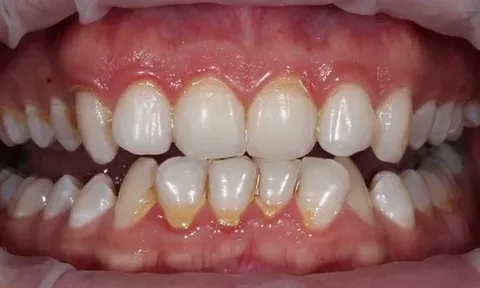LL1BC_healthy: (373, 169, 416, 233)
LL2BC_healthy: (404, 170, 437, 217)
LLCI_healthy: (253, 158, 300, 220)
LLC_healthy: (349, 168, 373, 223)
LLLI_healthy: (296, 156, 352, 230)
LR1BC_healthy: (67, 162, 115, 231)
LR1M_healthy: (9, 168, 53, 221)
LR2BC_healthy: (43, 169, 81, 223)
LRCI_healthy: (209, 158, 255, 228)
LRC_decay: (112, 156, 157, 231)
LRLI_healthy: (156, 156, 208, 231)
UL1BC_healthy: (410, 95, 435, 148)
ULCI_healthy: (243, 71, 316, 157)
ULC_healthy: (371, 78, 412, 163)
ULLI_healthy: (315, 74, 372, 155)
UR1BC_decay: (47, 96, 79, 152)
UR2BC_decay: (25, 101, 53, 150)
URCI_healthy: (174, 76, 245, 159)
URC_healthy: (73, 85, 116, 166)
URLI_healthy: (112, 76, 174, 156)
